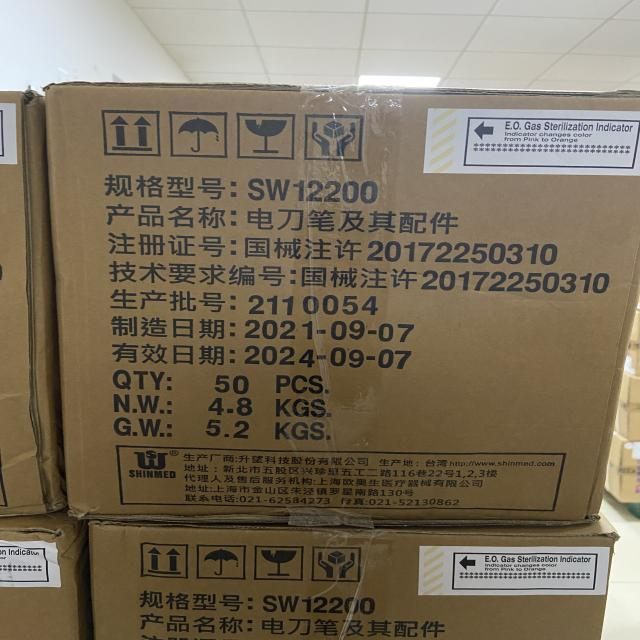box: (45, 77, 640, 526), (79, 515, 613, 640), (0, 87, 67, 519), (0, 514, 89, 634)
